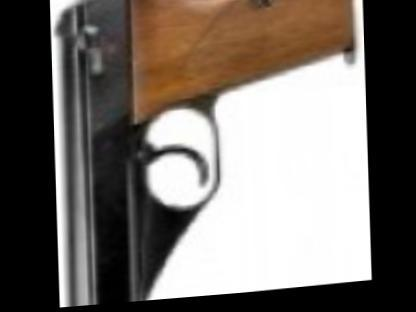pistol: (49, 0, 361, 308)
